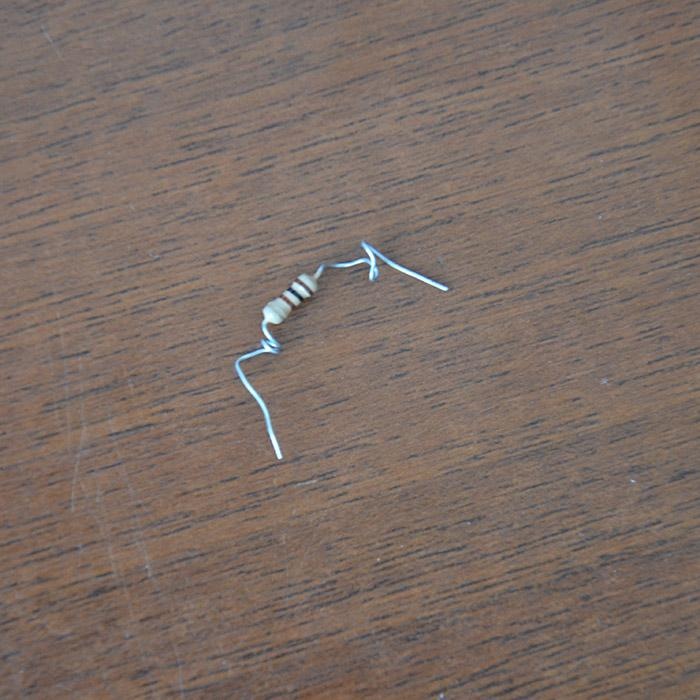resistor: (258, 273, 320, 327)
